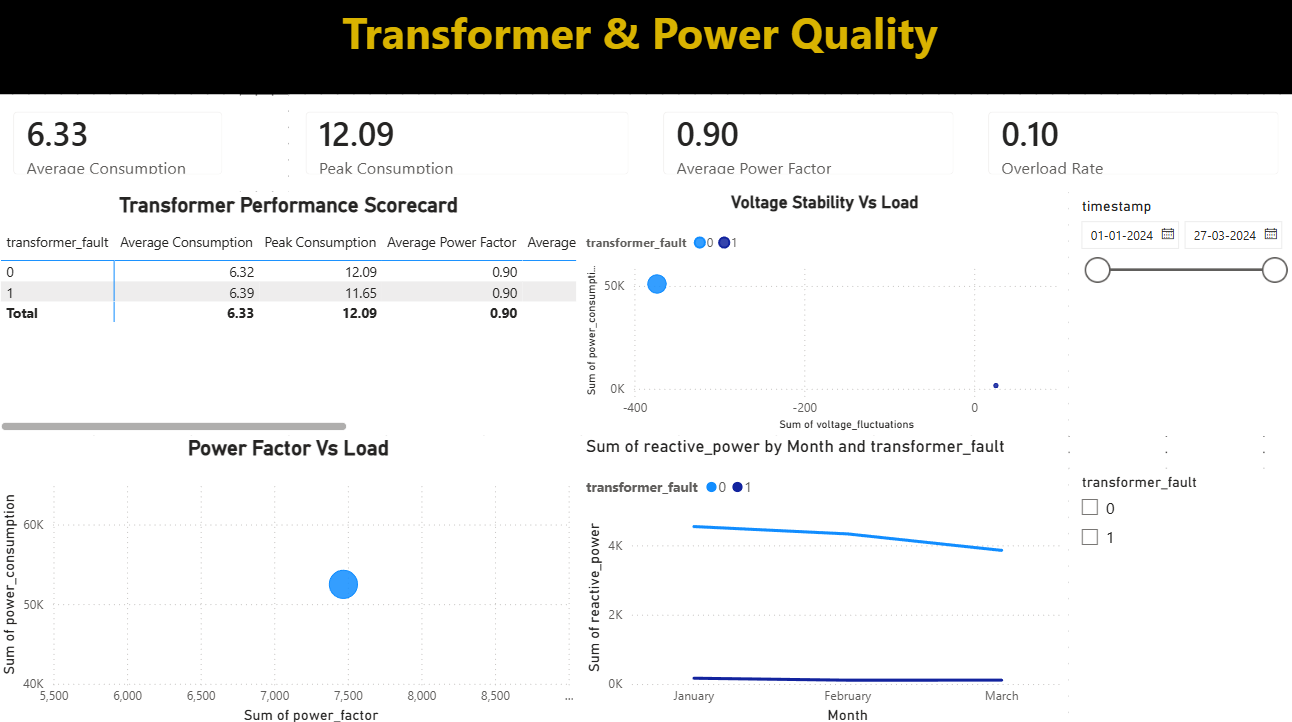

Layout of this report page (visuals, bound fields, positions):
{"tool":"powerbi","page":{"name":"Transformer & Power Quality ","canvas":[1280,720],"ordinal":2},"visuals":[{"type":"textbox","box":[0,0,1280,96],"z":0},{"type":"cardVisual","fields":{"Data":["energy_data.Average Consumption"]},"box":[0,96,240,96],"z":1},{"type":"cardVisual","fields":{"Data":["energy_data.Peak Consumption"]},"box":[288,96,352,96],"z":2},{"type":"cardVisual","fields":{"Data":["energy_data.Average Power Factor"]},"box":[640,96,320,96],"z":3},{"type":"cardVisual","fields":{"Data":["energy_data.Overload Rate"]},"box":[960,96,320,96],"z":4},{"type":"slicer","fields":{"Values":["energy_data.timestamp"]},"box":[1056,192,224,240],"z":5},{"type":"slicer","fields":{"Values":["energy_data.transformer_fault"]},"box":[1056,464,224,256],"z":6},{"type":"pivotTable","title":"Transformer Performance Scorecard","fields":{"Values":["energy_data.Average Consumption","energy_data.Peak Consumption","energy_data.Average Power Factor","energy_data.Average Reactive Power","energy_data.Average Voltage","energy_data.Overload Rate"],"Rows":["energy_data.transformer_fault"]},"box":[0,192,576,240],"z":7},{"type":"scatterChart","title":"Power Factor Vs Load ","fields":{"X":["Sum(energy_data.power_factor)"],"Y":["Sum(energy_data.power_consumption)"],"Size":["Sum(energy_data.reactive_power)"]},"box":[0,432,576,288],"z":8},{"type":"scatterChart","title":"Voltage Stability Vs Load","fields":{"X":["Sum(energy_data.voltage_fluctuations)"],"Y":["Sum(energy_data.power_consumption)"],"Series":["energy_data.transformer_fault"],"Size":["Sum(energy_data.current)"]},"box":[576,192,480,240],"z":9},{"type":"lineChart","fields":{"Category":["energy_data.timestamp.Variation.Date Hierarchy.Month"],"Y":["Sum(energy_data.reactive_power)"],"Series":["energy_data.transformer_fault"]},"box":[576,432,480,288],"z":10}]}

Visuals, with their boxes in screenshot pixels (x1, y1, x2, y2), scaled from the page's 1280x720 canvas onto the 1292x722 screenshot:
textbox: 0 0 1291 96
cardVisual - energy_data.Average Consumption: 0 96 242 193
cardVisual - energy_data.Peak Consumption: 291 96 646 193
cardVisual - energy_data.Average Power Factor: 646 96 969 193
cardVisual - energy_data.Overload Rate: 969 96 1291 193
slicer - energy_data.timestamp: 1066 193 1291 433
slicer - energy_data.transformer_fault: 1066 465 1291 721
"Transformer Performance Scorecard" pivotTable: 0 193 581 433
"Power Factor Vs Load " scatterChart: 0 433 581 721
"Voltage Stability Vs Load" scatterChart: 581 193 1066 433
lineChart - energy_data.timestamp.Variation.Date Hierarchy.Month x Sum(energy_data.reactive_power): 581 433 1066 721
